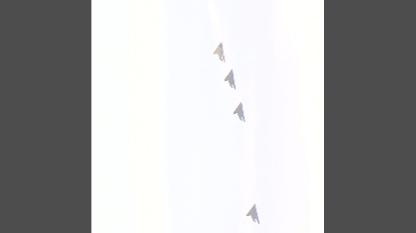E7: (247, 202, 260, 222), (214, 40, 225, 61), (225, 67, 236, 88), (234, 99, 245, 120)
